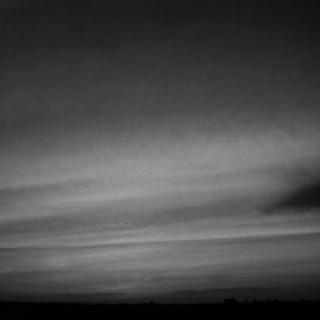Cirrostratus: (0, 1, 320, 272)
